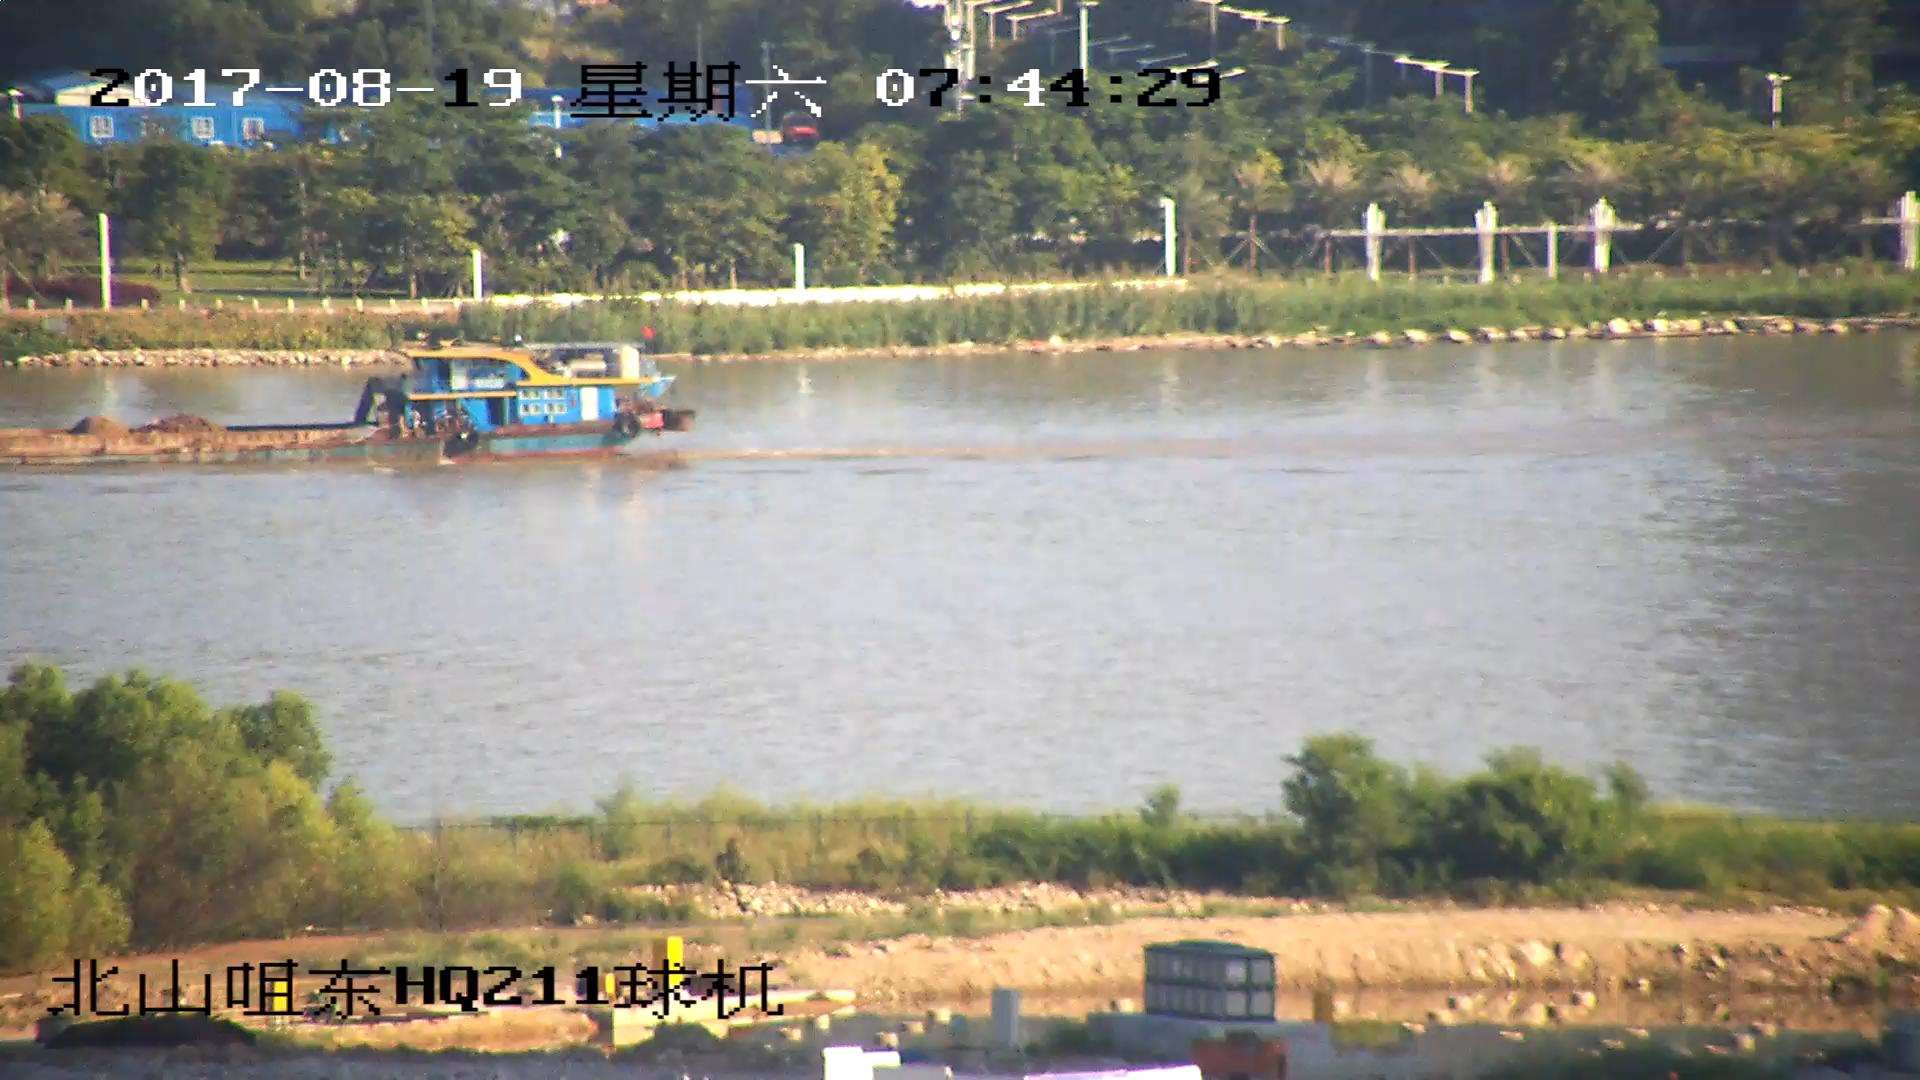ore carrier: (1, 327, 697, 469)
